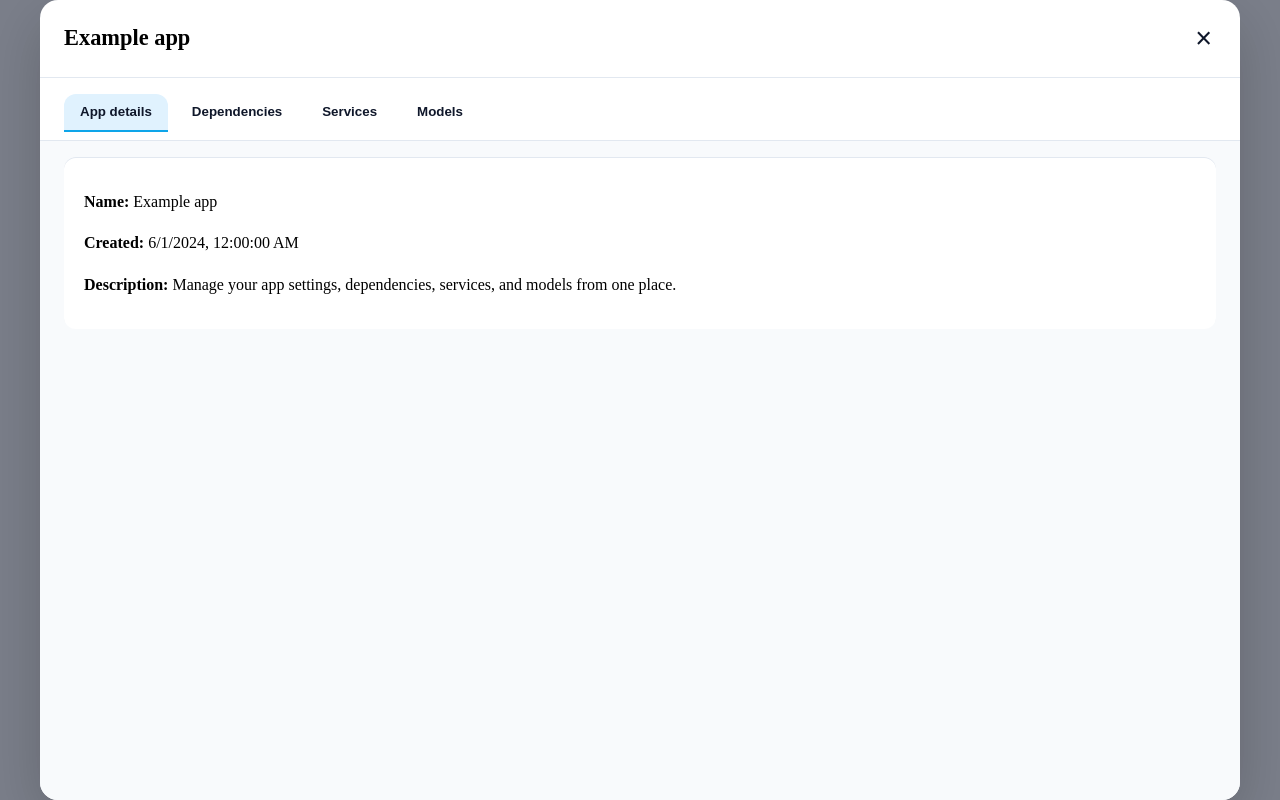
Test case: AppModal › removes a service from the list
Click the tab "Services".
click(350, 113)  # box [306,94,393,132]
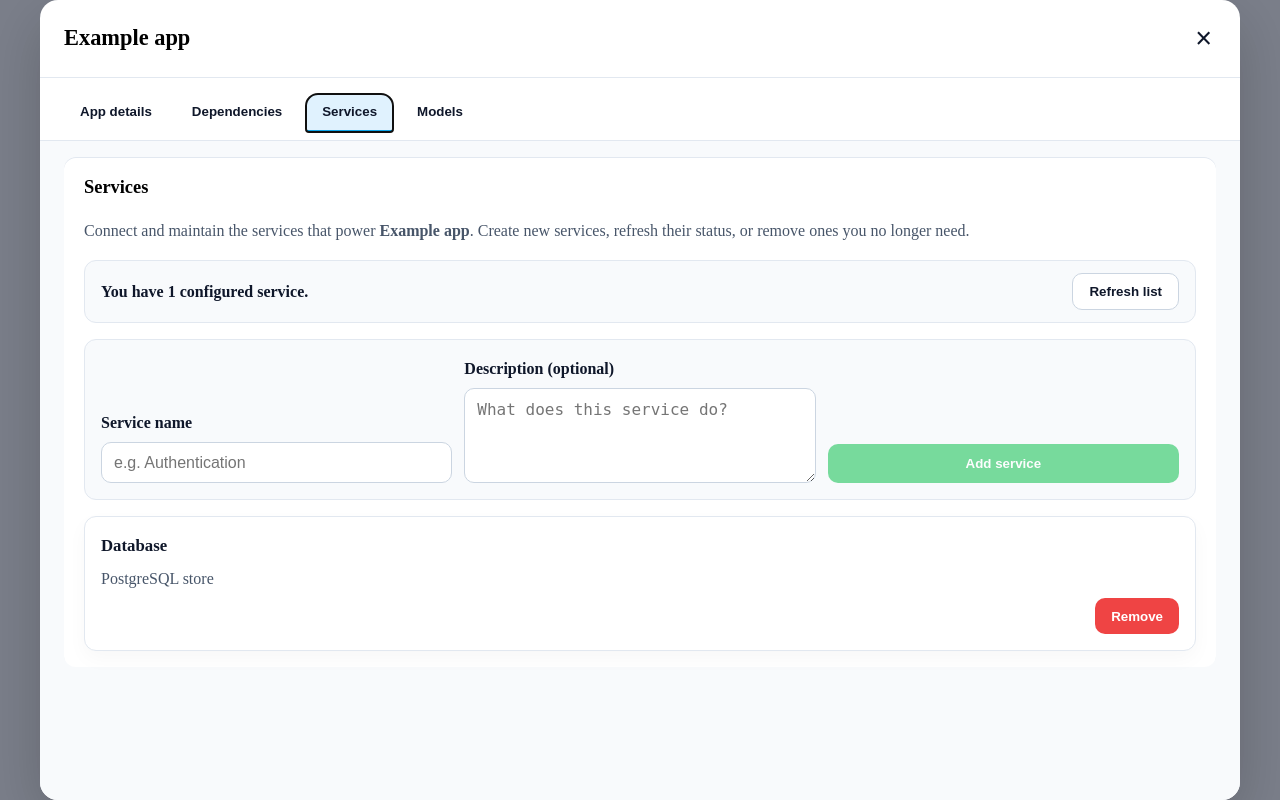
Expected: the heading "Database" is shown, [101,536,167,555]
Click the button with aria-label "remove database service".
click(1137, 616)  # box [1095,598,1179,634]
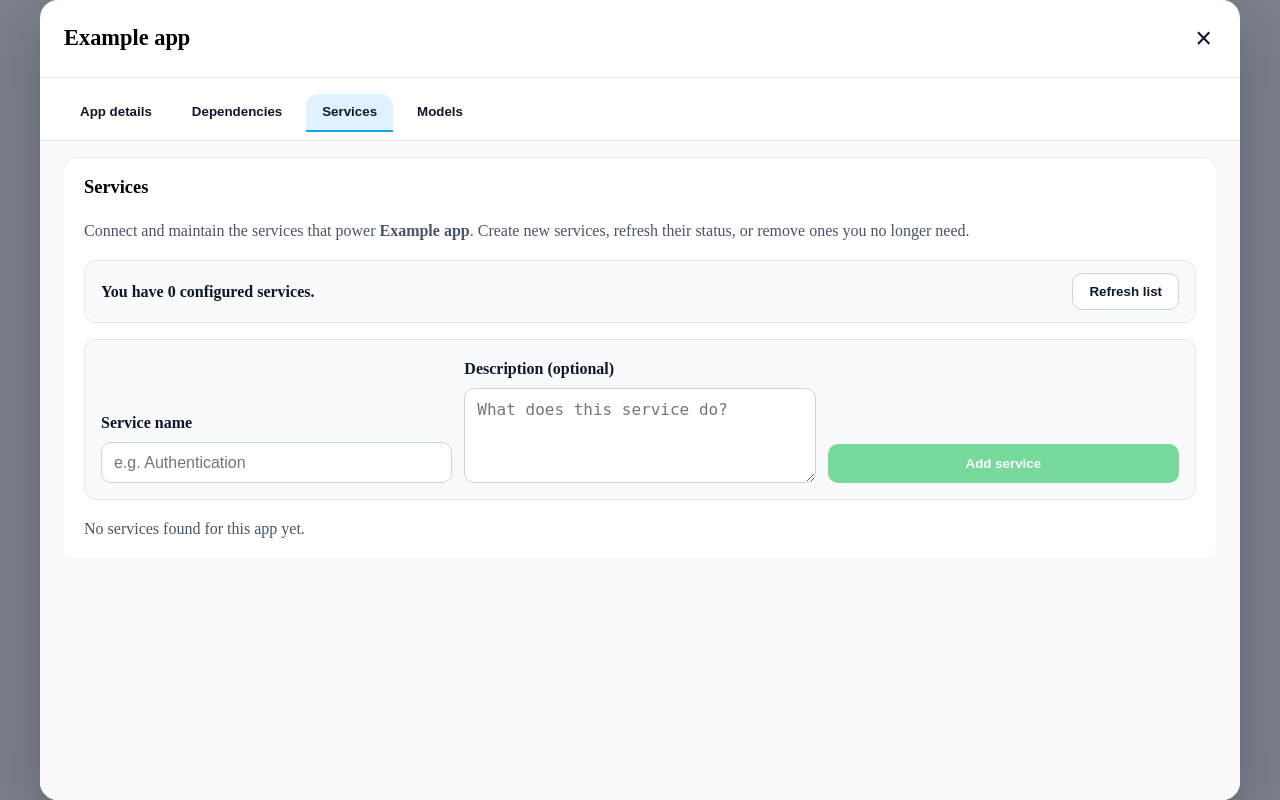
Expected: the heading "Database" is gone
